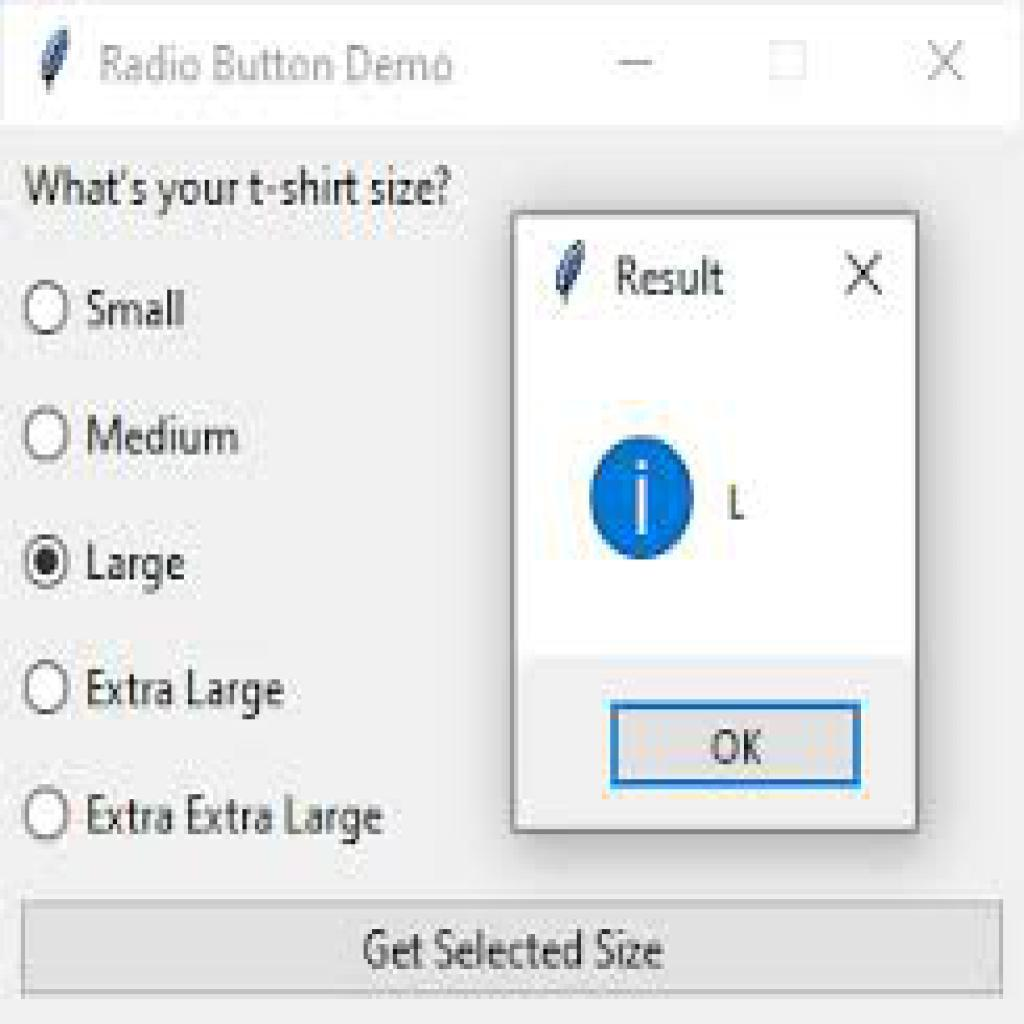button: (24, 895, 1001, 995), (617, 706, 861, 786)
icon: (584, 436, 698, 563)
radio: (21, 277, 80, 344), (21, 397, 77, 467), (23, 655, 77, 724), (17, 785, 74, 849), (20, 529, 76, 592)
